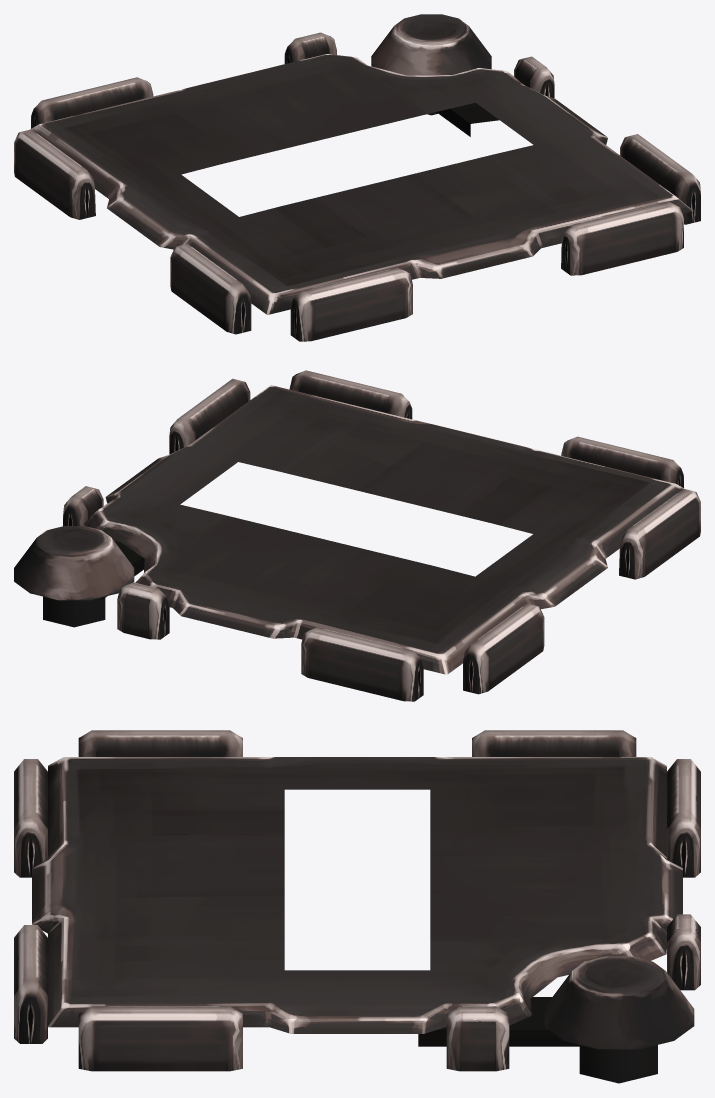
File: Component_PuzzleBackground_WithHole.fbx
The picture shows the model from 3 angles, top to bottom: view 1: azimuth 30°, elevation 25°; view 2: azimuth 150°, elevation 25°; view 3: azimuth 270°, elevation 25°; orthographic projection. The views are drawn at different scales.
Visible parts, largest first — view 1: Component_PuzzleBackground; view 2: Component_PuzzleBackground; view 3: Component_PuzzleBackground.
Boxes of the visible parts, x1,y1,x2,y2 form: Component_PuzzleBackground: (14, 14, 700, 341); Component_PuzzleBackground: (14, 370, 700, 701); Component_PuzzleBackground: (14, 730, 700, 1083).
Size of the model in its own units: 200 by 29.33 by 200.
